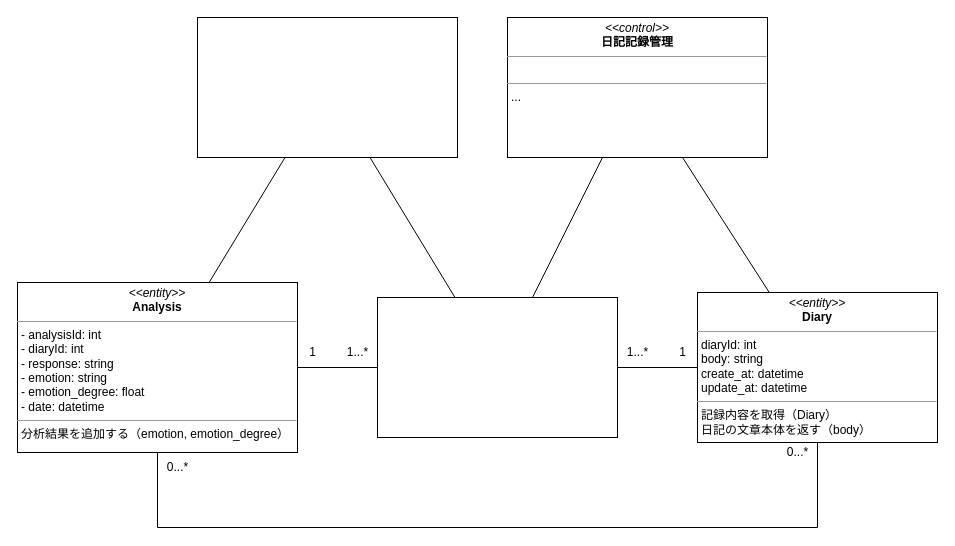
Some shapes in this 955 by 546 pixel diagram are drawn without their labels. Each missing label, with the centre of its shape:
"<<control>> 感情分析管理 日記に対する感情分析結果を送信する（...）" goes at point (327, 87).
"<<entity>> EmotionAI - botId: int - botName: string 日記の内容の感情を分析する（body）" goes at point (497, 367).
